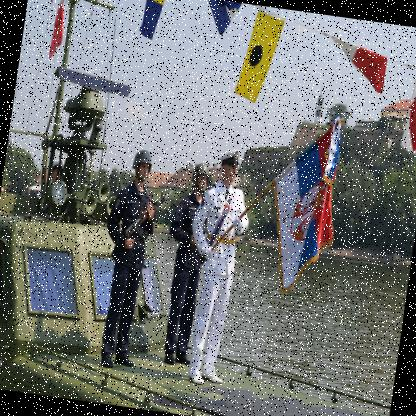rs: (257, 114, 351, 301)
